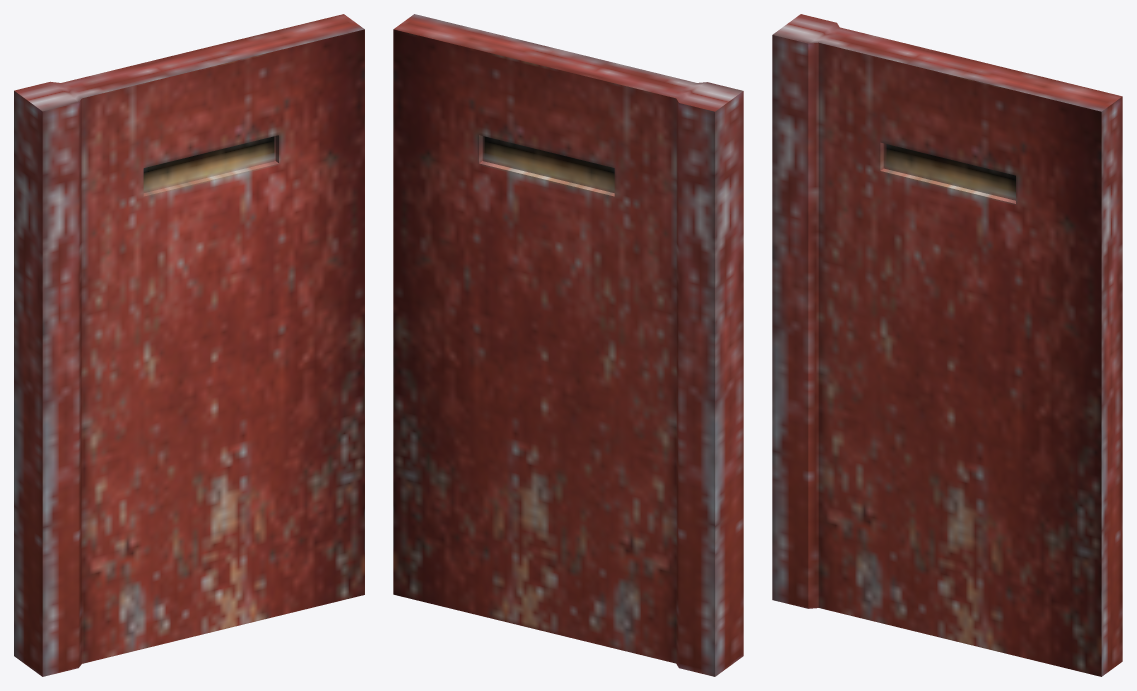
File: Door.fbx
3 renders of one model, left to right at view 1: azimuth 30°, elevation 25°; view 2: azimuth 150°, elevation 25°; view 3: azimuth 330°, elevation 25°, orthographic.
Visible parts, largest first — view 1: Door; view 2: Door; view 3: Door.
Part boxes in pixels (bbox=[...]): Door: bbox=[14, 14, 364, 676]; Door: bbox=[393, 14, 743, 676]; Door: bbox=[772, 14, 1122, 676].
Size of the model in its own units: 200 by 332 by 30.3.
Materials: 1 (1 with a texture image).
